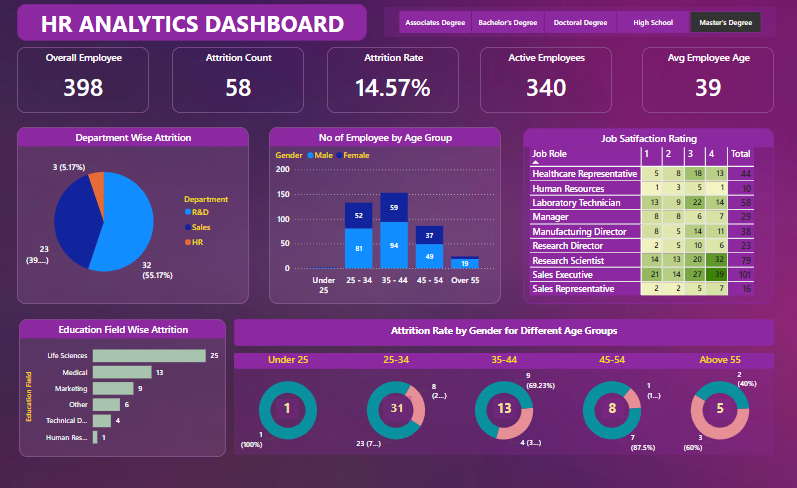

Layout of this report page (visuals, bound fields, positions):
{"tool":"powerbi","page":{"name":"Page 1","canvas":[1340,820],"ordinal":0},"visuals":[{"type":"card","title":"Overall Employee","fields":{"Values":["CountNonNull(HR data.Employee Count)"]},"box":[36.7,81.7,220,110],"z":0},{"type":"card","title":"Attrition Count","fields":{"Values":["Sum(HR data.Attrition Count)"]},"box":[295,81.7,220,110],"z":1000},{"type":"card","title":"Attrition Rate","fields":{"Values":["HR data.Attrition Rate"]},"box":[553.3,81.7,220,110],"z":2000},{"type":"card","title":"Active Employees","fields":{"Values":["HR data.Active Employees"]},"box":[808.3,81.7,220,110],"z":3000},{"type":"card","title":"Avg Employee Age","fields":{"Values":["Avg(HR data.Age)"]},"box":[1078.3,81.7,220,110],"z":4000},{"type":"pieChart","title":"Department Wise Attrition","fields":{"Category":["HR data.Department"],"Y":["Sum(HR data.Attrition Count)"]},"box":[36.9,214.3,385.5,294.8],"z":5000},{"type":"columnChart","title":"No of Employee by Age Group","fields":{"Category":["HR data.CF_age band"],"Y":["Sum(HR data.Employee Count)"],"Series":["HR data.Gender"]},"box":[456.5,214.3,385.5,294.8],"z":6000},{"type":"pivotTable","title":"Job Satifaction Rating","fields":{"Rows":["HR data.Job Role"],"Columns":["HR data.Job Satisfaction"],"Values":["Sum(HR data.Employee Count)"]},"box":[880,216.7,418.3,293.3],"z":7000},{"type":"barChart","title":"Education Field Wise Attrition","fields":{"Category":["HR data.Education Field"],"Y":["Sum(HR data.Attrition Count)"]},"box":[40,535.3,345,230],"z":8000},{"type":"donutChart","title":"Under 25","fields":{"Category":["HR data.Gender"],"Y":["Sum(HR data.Attrition Count)"],"Series":["HR data.CF_age band"]},"box":[398.3,591.7,180,170],"z":9000},{"type":"textbox","box":[398.3,535,900,45],"z":10000},{"type":"donutChart","title":"25-34","fields":{"Category":["HR data.Gender"],"Y":["Sum(HR data.Attrition Count)"],"Series":["HR data.CF_age band"]},"box":[578.3,591.7,180,170],"z":11000},{"type":"donutChart","title":"35-44","fields":{"Category":["HR data.Gender"],"Y":["Sum(HR data.Attrition Count)"],"Series":["HR data.CF_age band"]},"box":[758.3,591.7,180,170],"z":12000},{"type":"donutChart","title":"45-54","fields":{"Category":["HR data.Gender"],"Y":["Sum(HR data.Attrition Count)"],"Series":["HR data.CF_age band"]},"box":[938.3,591.7,180,170],"z":13000},{"type":"donutChart","title":"Above 55","fields":{"Category":["HR data.Gender"],"Y":["Sum(HR data.Attrition Count)"],"Series":["HR data.CF_age band"]},"box":[1118.3,591.7,180,170],"z":14000},{"type":"card","fields":{"Values":["Sum(HR data.Attrition Count)"]},"box":[468.8,668.6,37.5,32.5],"z":15000},{"type":"card","fields":{"Values":["Sum(HR data.Attrition Count)"]},"box":[646.2,663,47.5,43.8],"z":15001},{"type":"card","fields":{"Values":["Sum(HR data.Attrition Count)"]},"box":[830,668.6,37.5,32.5],"z":15002},{"type":"card","fields":{"Values":["Sum(HR data.Attrition Count)"]},"box":[1010,668.6,37.5,32.5],"z":15003},{"type":"card","fields":{"Values":["Sum(HR data.Attrition Count)"]},"box":[1190,668.6,37.5,32.5],"z":15004},{"type":"textbox","title":"HR ANALYTICS DASHBOARD","box":[37.1,10,582.9,61.4],"z":15005},{"type":"slicer","fields":{"Values":["HR data.Education"]},"box":[648.6,15.7,652.9,50],"z":15006}]}

Visuals, with their boxes in screenshot pixels (x1, y1, x2, y2), scaled from the page's 1340x820 canvas onto the 797x488 screenshot:
"Overall Employee" card: x1=22, y1=49, x2=153, y2=114
"Attrition Count" card: x1=175, y1=49, x2=306, y2=114
"Attrition Rate" card: x1=329, y1=49, x2=460, y2=114
"Active Employees" card: x1=481, y1=49, x2=612, y2=114
"Avg Employee Age" card: x1=641, y1=49, x2=772, y2=114
"Department Wise Attrition" pieChart: x1=22, y1=128, x2=251, y2=303
"No of Employee by Age Group" columnChart: x1=272, y1=128, x2=501, y2=303
"Job Satifaction Rating" pivotTable: x1=523, y1=129, x2=772, y2=304
"Education Field Wise Attrition" barChart: x1=24, y1=319, x2=229, y2=455
"Under 25" donutChart: x1=237, y1=352, x2=344, y2=453
textbox: x1=237, y1=318, x2=772, y2=345
"25-34" donutChart: x1=344, y1=352, x2=451, y2=453
"35-44" donutChart: x1=451, y1=352, x2=558, y2=453
"45-54" donutChart: x1=558, y1=352, x2=665, y2=453
"Above 55" donutChart: x1=665, y1=352, x2=772, y2=453
card - Sum(HR data.Attrition Count): x1=279, y1=398, x2=301, y2=417
card - Sum(HR data.Attrition Count): x1=384, y1=395, x2=413, y2=421
card - Sum(HR data.Attrition Count): x1=494, y1=398, x2=516, y2=417
card - Sum(HR data.Attrition Count): x1=601, y1=398, x2=623, y2=417
card - Sum(HR data.Attrition Count): x1=708, y1=398, x2=730, y2=417
"HR ANALYTICS DASHBOARD" textbox: x1=22, y1=6, x2=369, y2=42
slicer - HR data.Education: x1=386, y1=9, x2=774, y2=39
